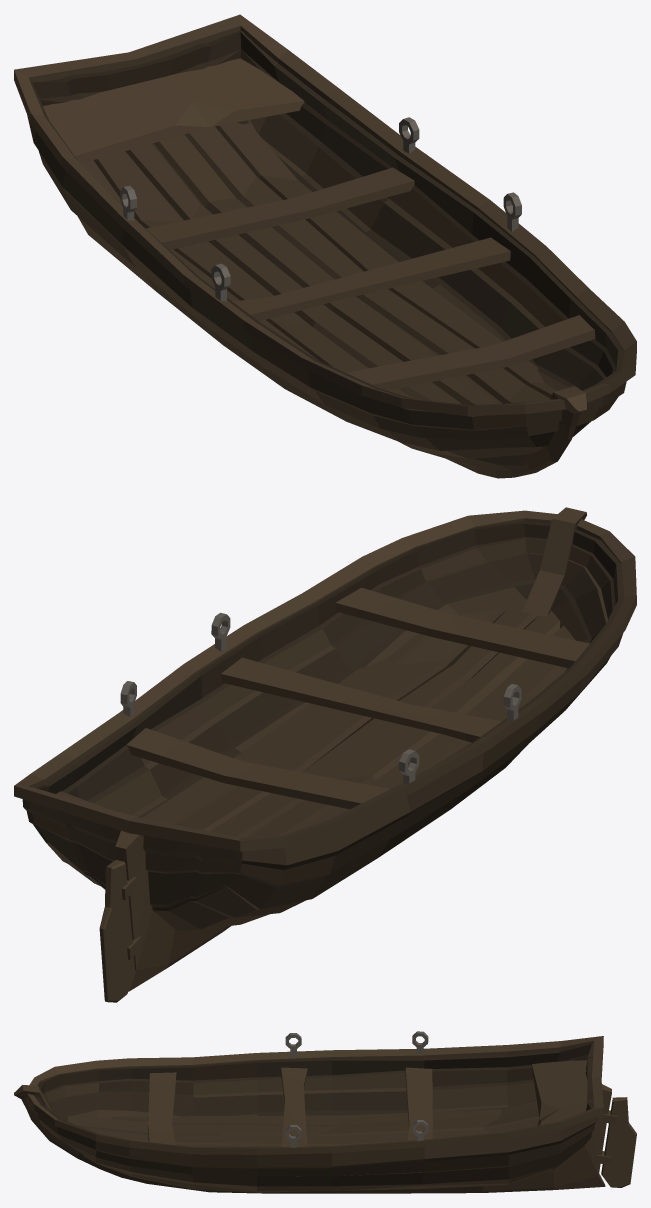
The model's file is SM_Veh_Boat_Rowing_01_Hull_Pirate.glb.
3 views of the same model, one above another, from view 1: azimuth 30°, elevation 25°; view 2: azimuth 150°, elevation 25°; view 3: azimuth 270°, elevation 25° (orthographic). The views are drawn at different scales.
Visible parts, largest first — view 1: SM_Veh_Boat_Rowing_01_Hull_Pirate; view 2: SM_Veh_Boat_Rowing_01_Hull_Pirate; view 3: SM_Veh_Boat_Rowing_01_Hull_Pirate.
Boxes of the visible parts, x1=… form: SM_Veh_Boat_Rowing_01_Hull_Pirate: x1=14, y1=14, x2=636, y2=478; SM_Veh_Boat_Rowing_01_Hull_Pirate: x1=14, y1=507, x2=636, y2=1002; SM_Veh_Boat_Rowing_01_Hull_Pirate: x1=14, y1=1031, x2=636, y2=1193.
Size of the model in its own units: 0.0198 by 0.0116 by 0.0539.
